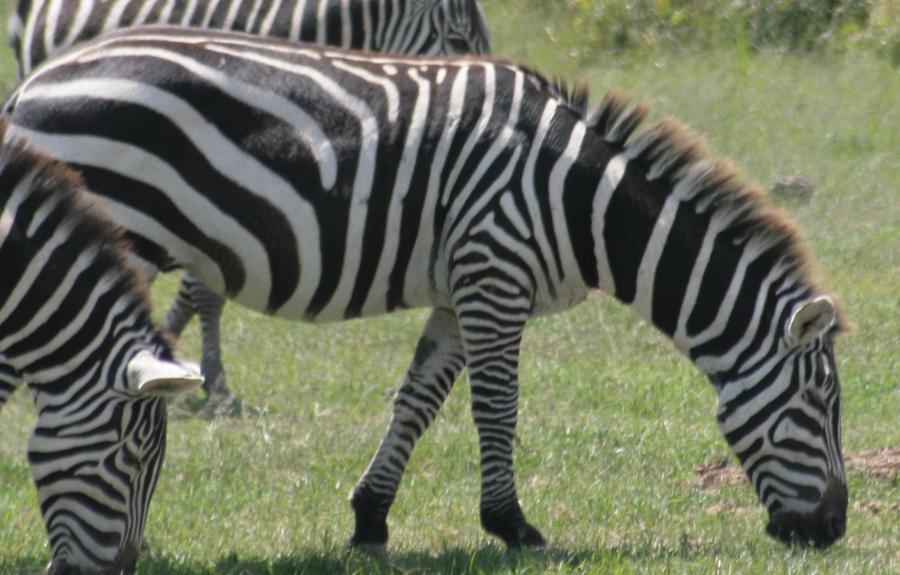zebra_plains: (75, 25, 568, 305)
